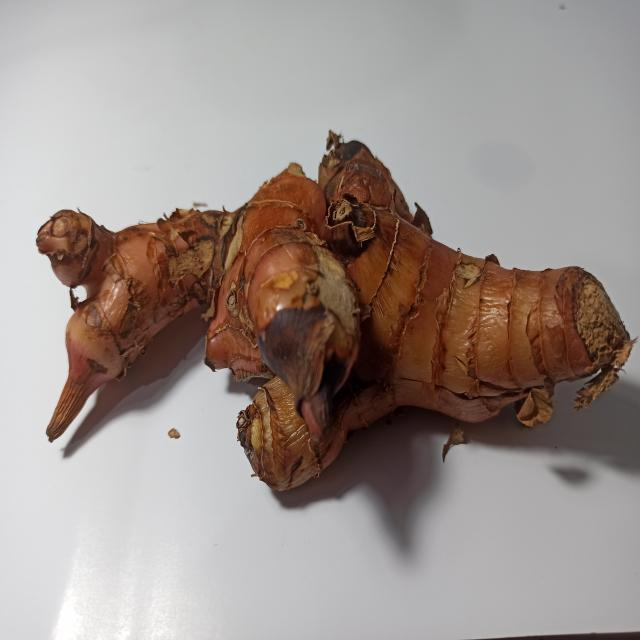ginger: (46, 140, 638, 453)
